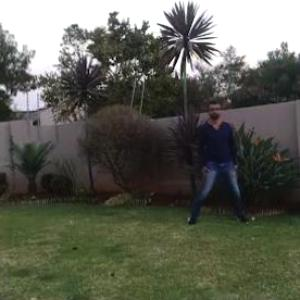follow: (198, 91, 236, 221)
